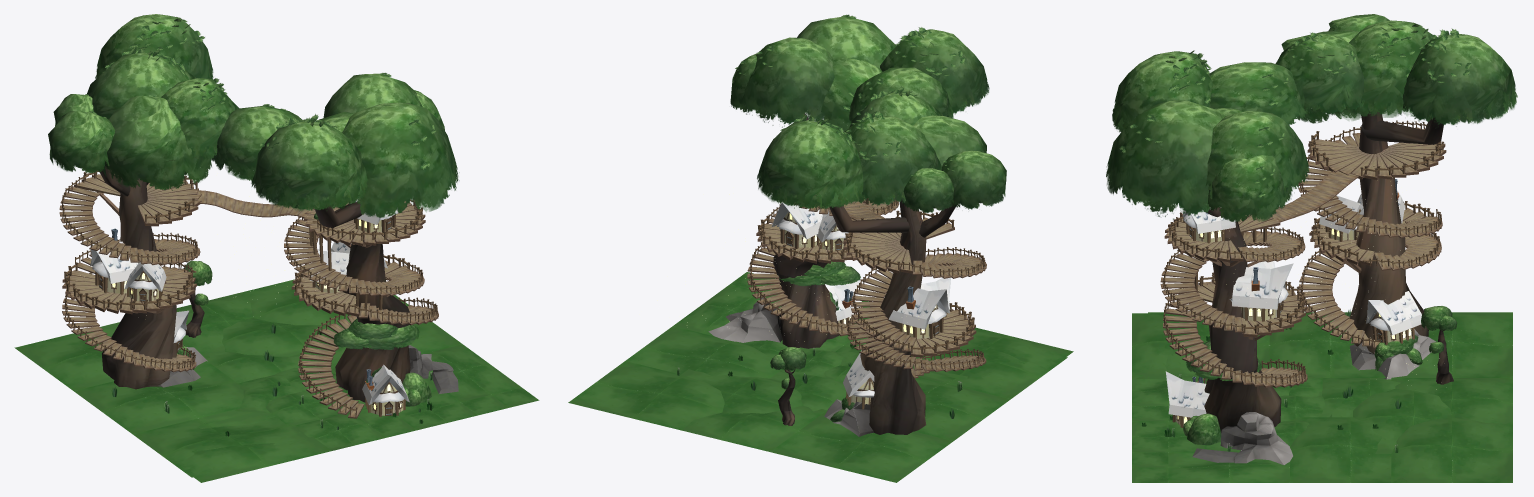
File: TreeHouses.glb
3 renders of one model, left to right at view 1: azimuth 30°, elevation 25°; view 2: azimuth 150°, elevation 25°; view 3: azimuth 270°, elevation 25°, orthographic. The views are drawn at different scales.
Visible parts, largest first — view 1: Branch07, Ground33, Platform58, pCylinder26, pCylinder23, pCylinder28, pCylinder21; view 2: Branch07, Ground33, Platform58, pCylinder26, pCylinder22, pCylinder27, pCylinder21, pCylinder23, Branch05; view 3: Branch07, Ground33, Platform58, pCylinder22, pCylinder27, pCylinder23, pCylinder28, pCylinder26, pSphere32, pSphere45, Branch05.
Part boxes in pixels (x1,y1,x2,y2): Branch07: [48, 14, 459, 402]; Ground33: [14, 279, 539, 482]; Platform58: [59, 170, 438, 418]; pCylinder26: [90, 228, 166, 301]; pCylinder23: [362, 364, 409, 416]; pCylinder28: [352, 199, 398, 232]; pCylinder21: [306, 248, 349, 293]; Branch07: [708, 14, 1006, 436]; Ground33: [568, 272, 1073, 482]; Platform58: [747, 197, 986, 378]; pCylinder26: [888, 277, 950, 338]; pCylinder22: [772, 202, 822, 248]; pCylinder27: [843, 350, 874, 409]; pCylinder21: [816, 210, 848, 250]; pCylinder23: [828, 272, 862, 324]; Branch05: [778, 368, 795, 425]; Branch07: [1106, 14, 1517, 464]; Ground33: [1132, 312, 1512, 482]; Platform58: [1160, 120, 1446, 387]; pCylinder22: [1229, 263, 1293, 321]; pCylinder27: [1366, 291, 1421, 344]; pCylinder23: [1165, 371, 1209, 427]; pCylinder28: [1182, 207, 1235, 243]; pCylinder26: [1319, 179, 1404, 241]; pSphere32: [1187, 413, 1221, 445]; pSphere45: [1421, 306, 1452, 330]; Branch05: [1436, 329, 1453, 384].
Size of the model in its own units: 30.33 by 26.32 by 28.32.
10 materials, 9 textured.
